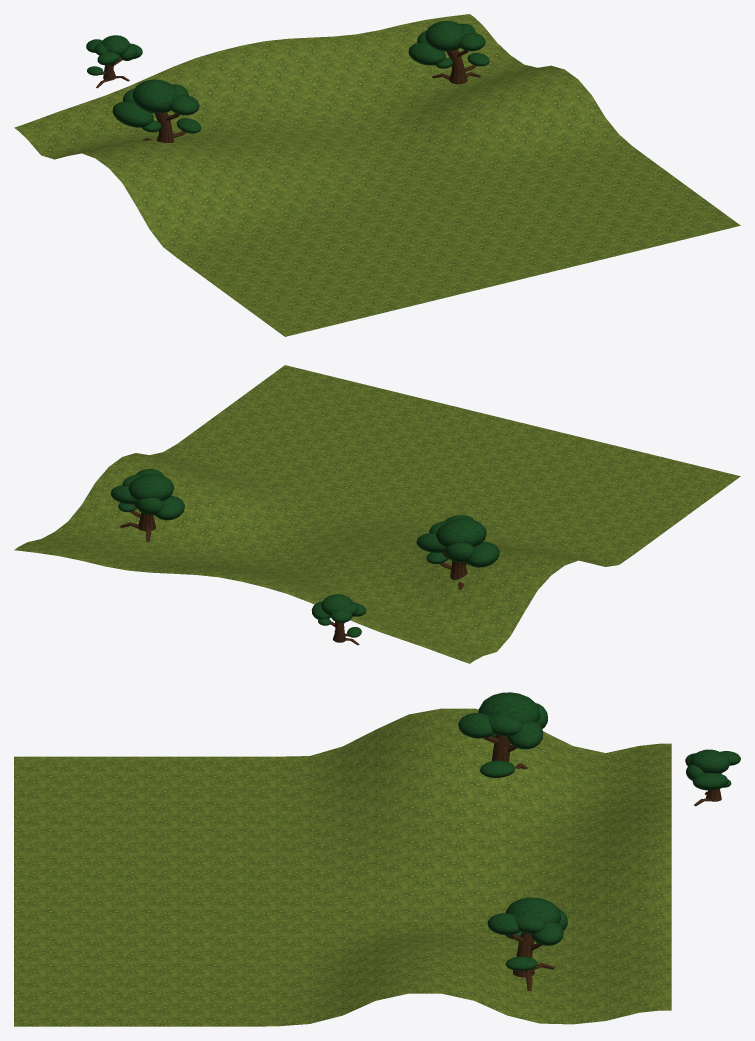
File: Landscape.fbx
3 views of the same model, one above another, from view 1: azimuth 30°, elevation 25°; view 2: azimuth 150°, elevation 25°; view 3: azimuth 270°, elevation 25° (orthographic). The views are drawn at different scales.
Visible parts, largest first — view 1: Landscape; view 2: Landscape; view 3: Landscape.
Part boxes in pixels (bbox=[...]): Landscape: bbox=[14, 14, 740, 336]; Landscape: bbox=[14, 365, 740, 663]; Landscape: bbox=[14, 692, 740, 1026].
Size of the model in its own units: 75.36 by 13.53 by 85.77.
